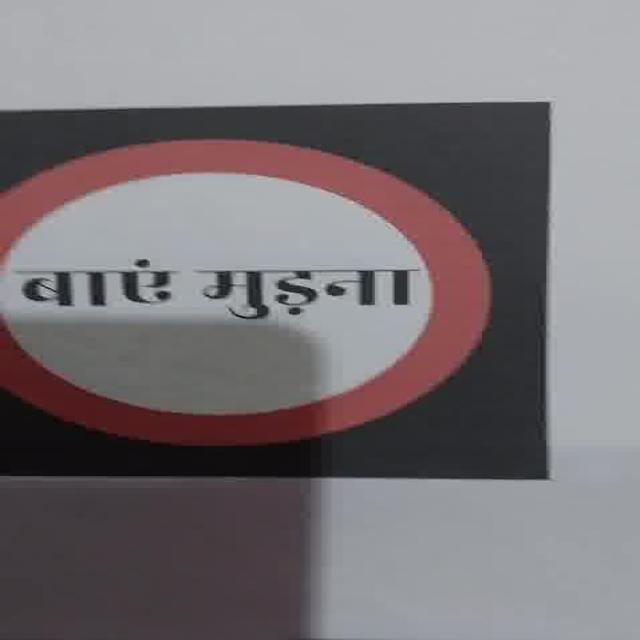hindileft: (0, 135, 495, 447), (15, 258, 420, 320), (5, 244, 190, 328)
